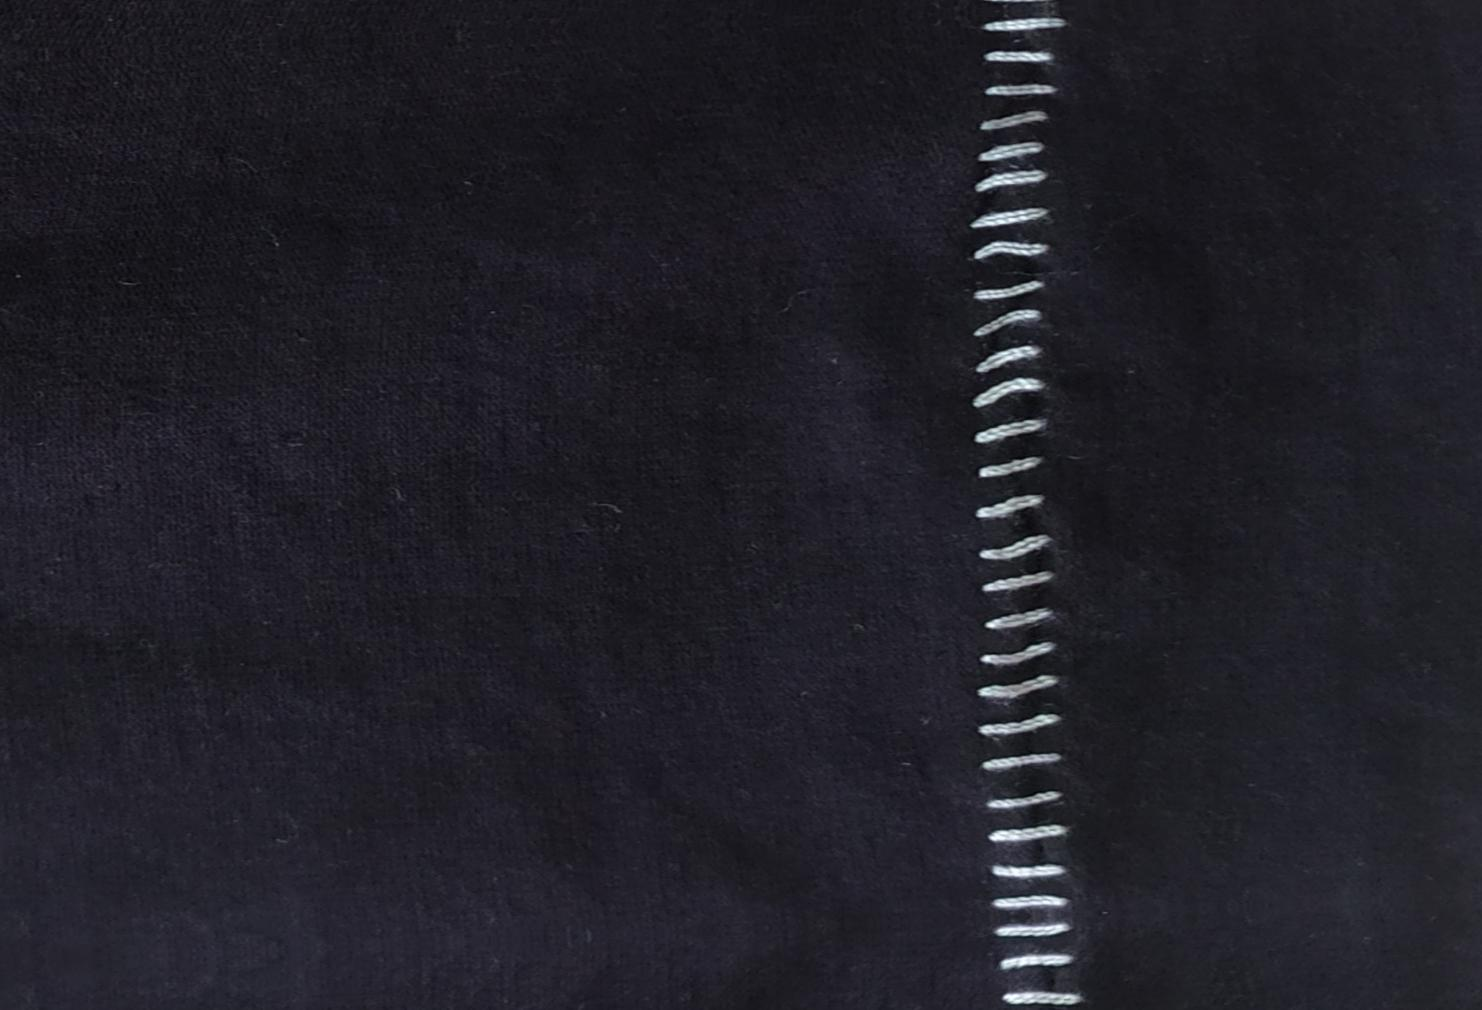slub: (972, 2, 1102, 1010)
